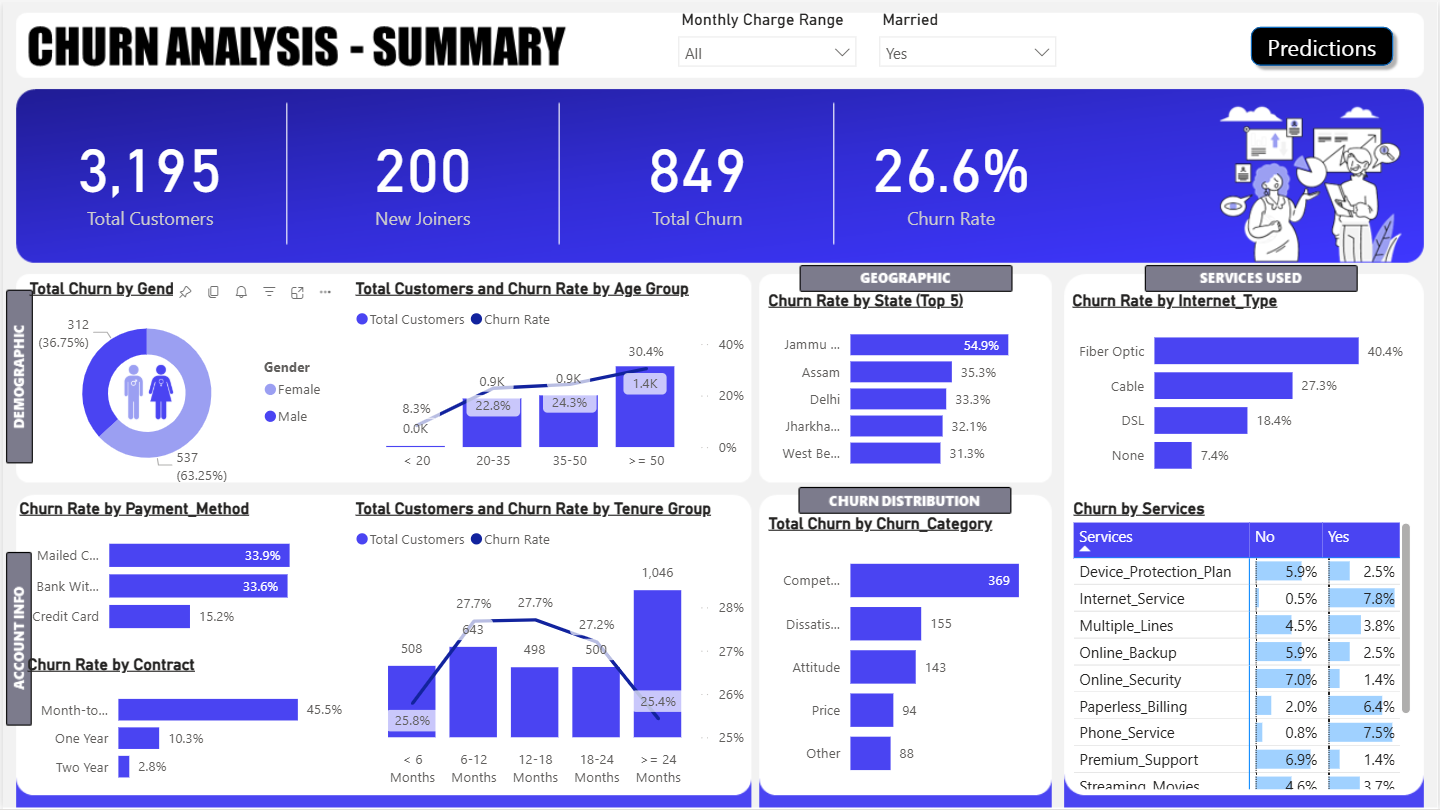

This screenshot's page, from the dashboard's own definition file:
{"tool":"powerbi","page":{"name":"Churn Summary","canvas":[1280,720],"ordinal":0},"visuals":[{"type":"card","fields":{"Values":["tbl_Measures.Total Customers"]},"box":[9.7,77.8,243.2,153.7],"z":0},{"type":"card","fields":{"Values":["tbl_Measures.New Joiners"]},"box":[252.9,77.8,244.1,153.7],"z":1000},{"type":"card","fields":{"Values":["tbl_Measures.Total Churn"]},"box":[497,77.8,245.1,153.7],"z":2000},{"type":"card","fields":{"Values":["tbl_Measures.Churn Rate"]},"box":[742.1,77.8,207.2,153.7],"z":3000},{"type":"donutChart","fields":{"Y":["tbl_Measures.Total Churn"],"Category":["prod_Churn.Gender"]},"box":[18.5,247.1,280.1,187.7],"z":4000},{"type":"lineStackedColumnComboChart","fields":{"Category":["mapping_AgeGrp.Age Group"],"Y":["tbl_Measures.Total Customers"],"Y2":["tbl_Measures.Churn Rate"]},"box":[309.3,247.1,357,179.9],"z":5000},{"type":"barChart","title":"Churn Rate by State (Top 5)","fields":{"Y":["tbl_Measures.Churn Rate"],"Category":["prod_Churn.State"]},"box":[677.9,257.8,258.7,169.2],"z":6000},{"type":"barChart","fields":{"Category":["prod_Churn.Internet_Type"],"Y":["tbl_Measures.Churn Rate"]},"box":[949.3,257.8,312.2,177],"z":7000},{"type":"barChart","fields":{"Category":["prod_Churn.Payment_Method"],"Y":["tbl_Measures.Churn Rate"]},"box":[9.7,443.5,288.9,132.3],"z":8000},{"type":"barChart","fields":{"Category":["prod_Churn.Contract"],"Y":["tbl_Measures.Churn Rate"]},"box":[16.5,582.6,292.8,125.5],"z":9000},{"type":"lineStackedColumnComboChart","fields":{"Category":["mapping_TenureGrp.Tenure Group"],"Y":["tbl_Measures.Total Customers"],"Y2":["tbl_Measures.Churn Rate"]},"box":[309.3,443.5,357,263.6],"z":10000},{"type":"image","box":[93.4,309.3,72.9,75.9],"z":11000},{"type":"barChart","fields":{"Y":["tbl_Measures.Total Churn"],"Category":["prod_Churn.Churn_Category"]},"box":[677.9,457.1,258.7,250],"z":12000},{"type":"pivotTable","title":"Churn by Services","fields":{"Rows":["prod_Services.Services"],"Columns":["prod_Services.Status"],"Values":["Sum(prod_Services.Churn Status)"]},"box":[950.3,443.5,311.2,263.6],"z":13000},{"type":"slicer","fields":{"Values":["prod_Churn.Monthly Charge Status"]},"box":[592.3,2.9,179,77.8],"z":14000},{"type":"slicer","fields":{"Values":["prod_Churn.Married"]},"box":[771.3,2.9,178,72.9],"z":15000},{"type":"shape","box":[1105.9,15.6,141,48.6],"z":16000}]}

Visuals, with their boxes in screenshot pixels (x1, y1, x2, y2), scaled from the page's 1280x720 canvas onto the 1440x810 screenshot:
card - tbl_Measures.Total Customers: detection(11, 88, 285, 260)
card - tbl_Measures.New Joiners: detection(285, 88, 559, 260)
card - tbl_Measures.Total Churn: detection(559, 88, 835, 260)
card - tbl_Measures.Churn Rate: detection(835, 88, 1068, 260)
donutChart - tbl_Measures.Total Churn x prod_Churn.Gender: detection(21, 278, 336, 489)
lineStackedColumnComboChart - mapping_AgeGrp.Age Group x tbl_Measures.Total Customers: detection(348, 278, 750, 480)
"Churn Rate by State (Top 5)" barChart: detection(763, 290, 1054, 480)
barChart - prod_Churn.Internet_Type x tbl_Measures.Churn Rate: detection(1068, 290, 1419, 489)
barChart - prod_Churn.Payment_Method x tbl_Measures.Churn Rate: detection(11, 499, 336, 648)
barChart - prod_Churn.Contract x tbl_Measures.Churn Rate: detection(19, 655, 348, 797)
lineStackedColumnComboChart - mapping_TenureGrp.Tenure Group x tbl_Measures.Total Customers: detection(348, 499, 750, 795)
image: detection(105, 348, 187, 433)
barChart - tbl_Measures.Total Churn x prod_Churn.Churn_Category: detection(763, 514, 1054, 795)
"Churn by Services" pivotTable: detection(1069, 499, 1419, 795)
slicer - prod_Churn.Monthly Charge Status: detection(666, 3, 868, 91)
slicer - prod_Churn.Married: detection(868, 3, 1068, 85)
shape: detection(1244, 18, 1403, 72)
